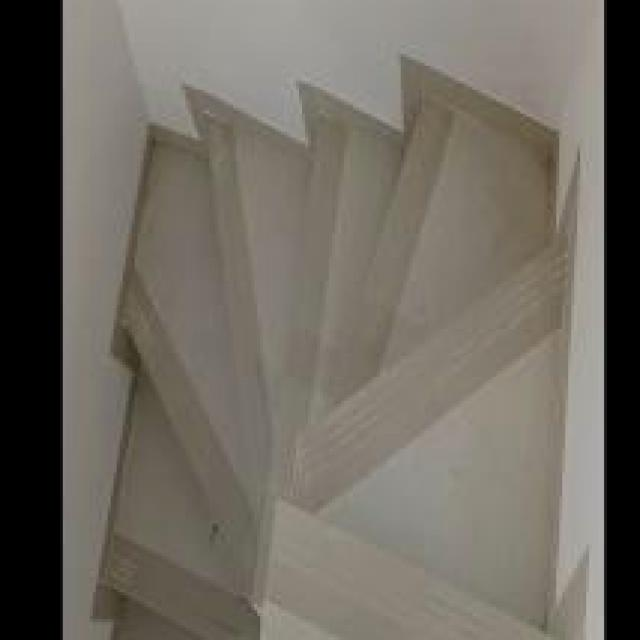downstair: (135, 108, 596, 640)
